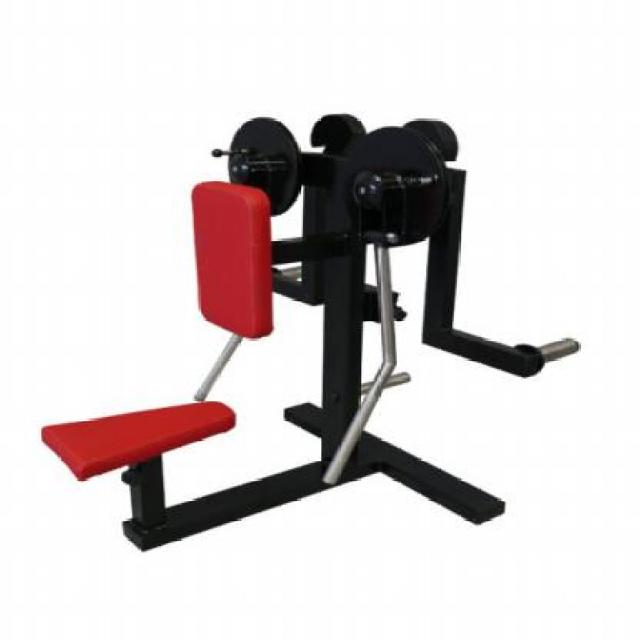lateral raises machine: (40, 114, 582, 554)
